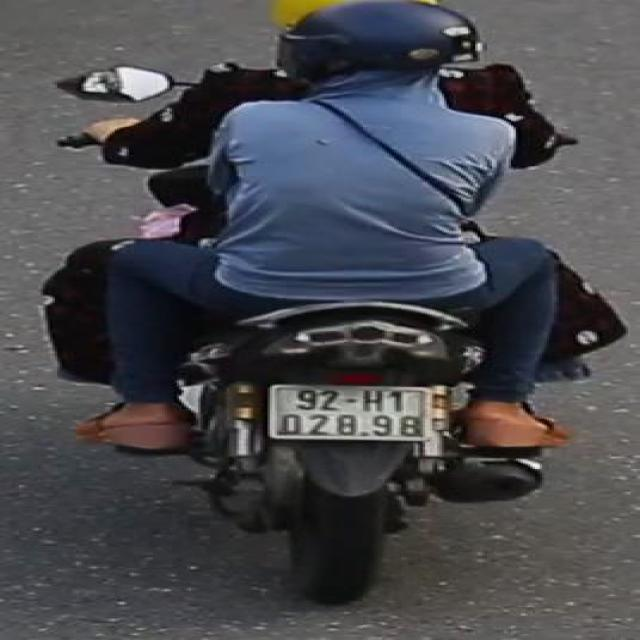LP: (260, 380, 437, 446)
helmet: (274, 0, 496, 77)
